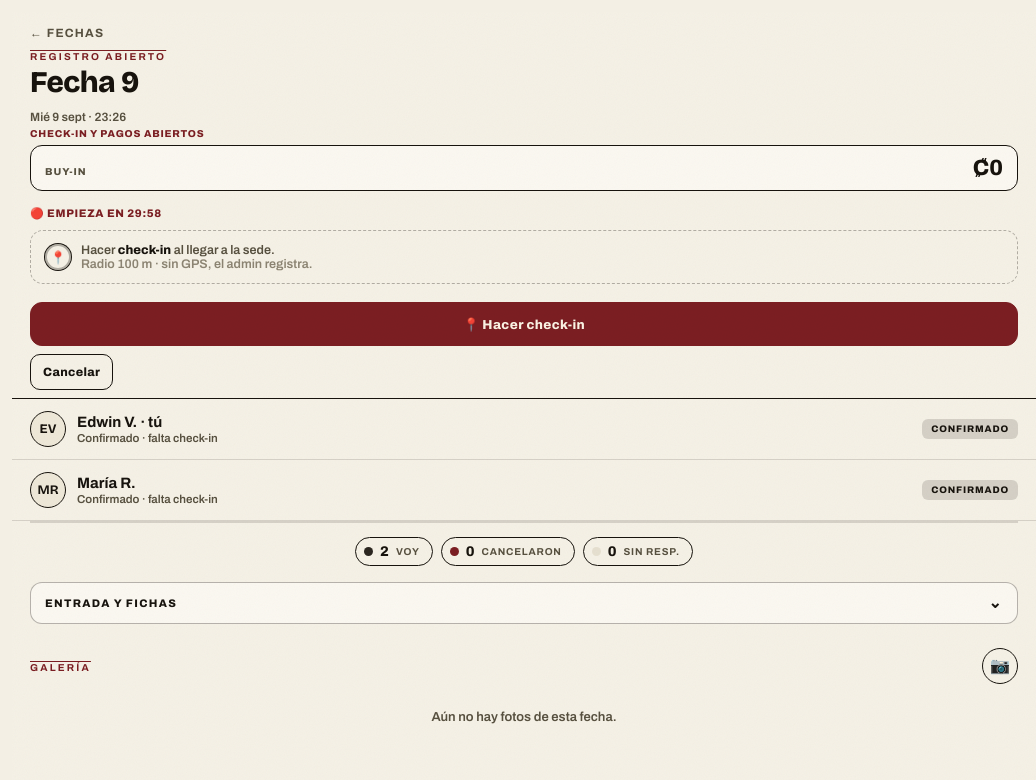
Test: FechaDetail — geofenced check-in › permission denied / no GPS: shows the friendly "solicitar al admin" banner
Check: the heading "Fecha 9" is shown, box [30, 64, 139, 100]
Click the button "📍 Hacer check-in" at (524,324), box [30, 302, 1018, 346]
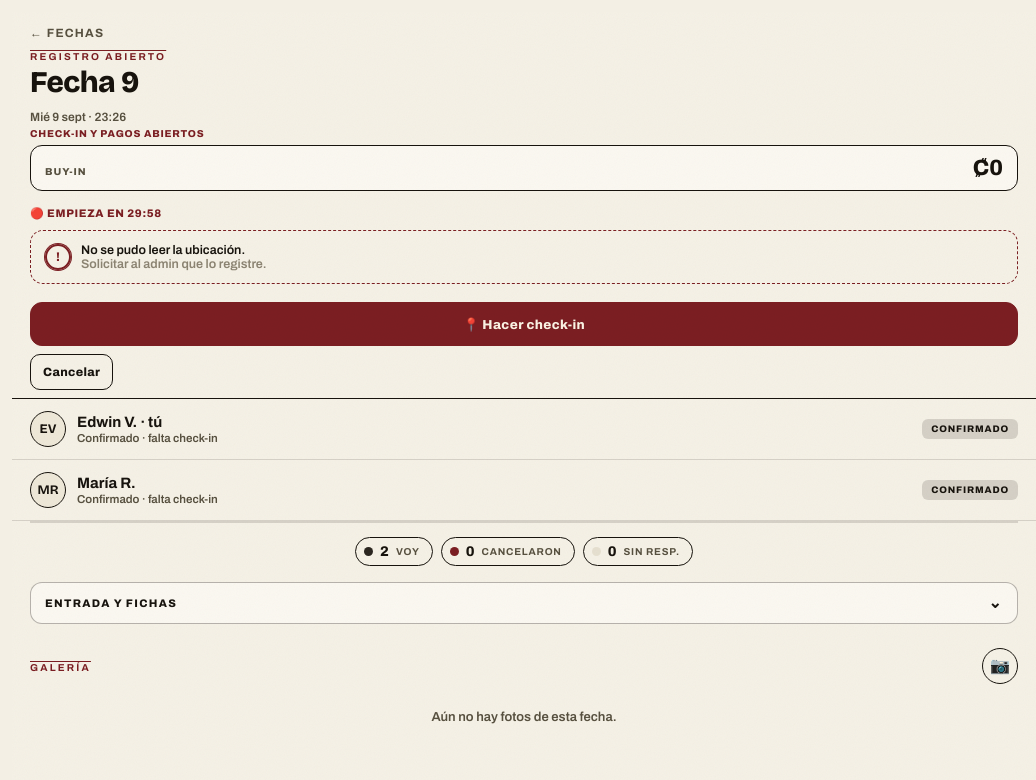
Check: the message shows "Solicitar al admin que lo registre", box [81, 257, 266, 271]
